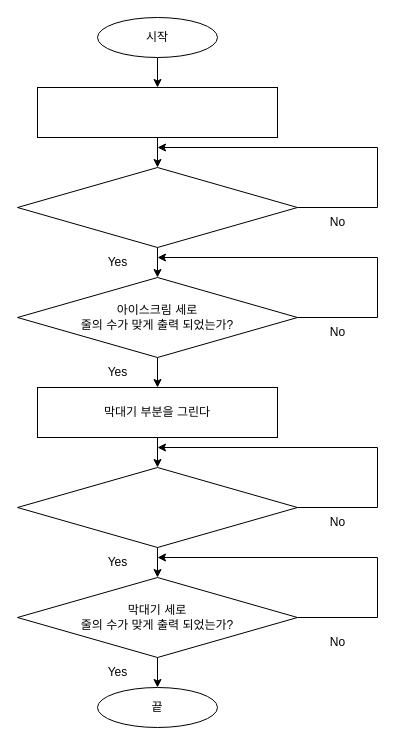
This 403x745 diagram has some shape labels left out. Each missing label, with the box of its shape:
막대기 가로 | 의 간격과 수가 맞게 출력 되었는가?: (16, 466, 298, 548)
아이스크림 가로 *의 수가 맞게 출력 되었는가?: (16, 166, 298, 248)
아이스크림 부분을 그린다: (36, 86, 278, 138)
